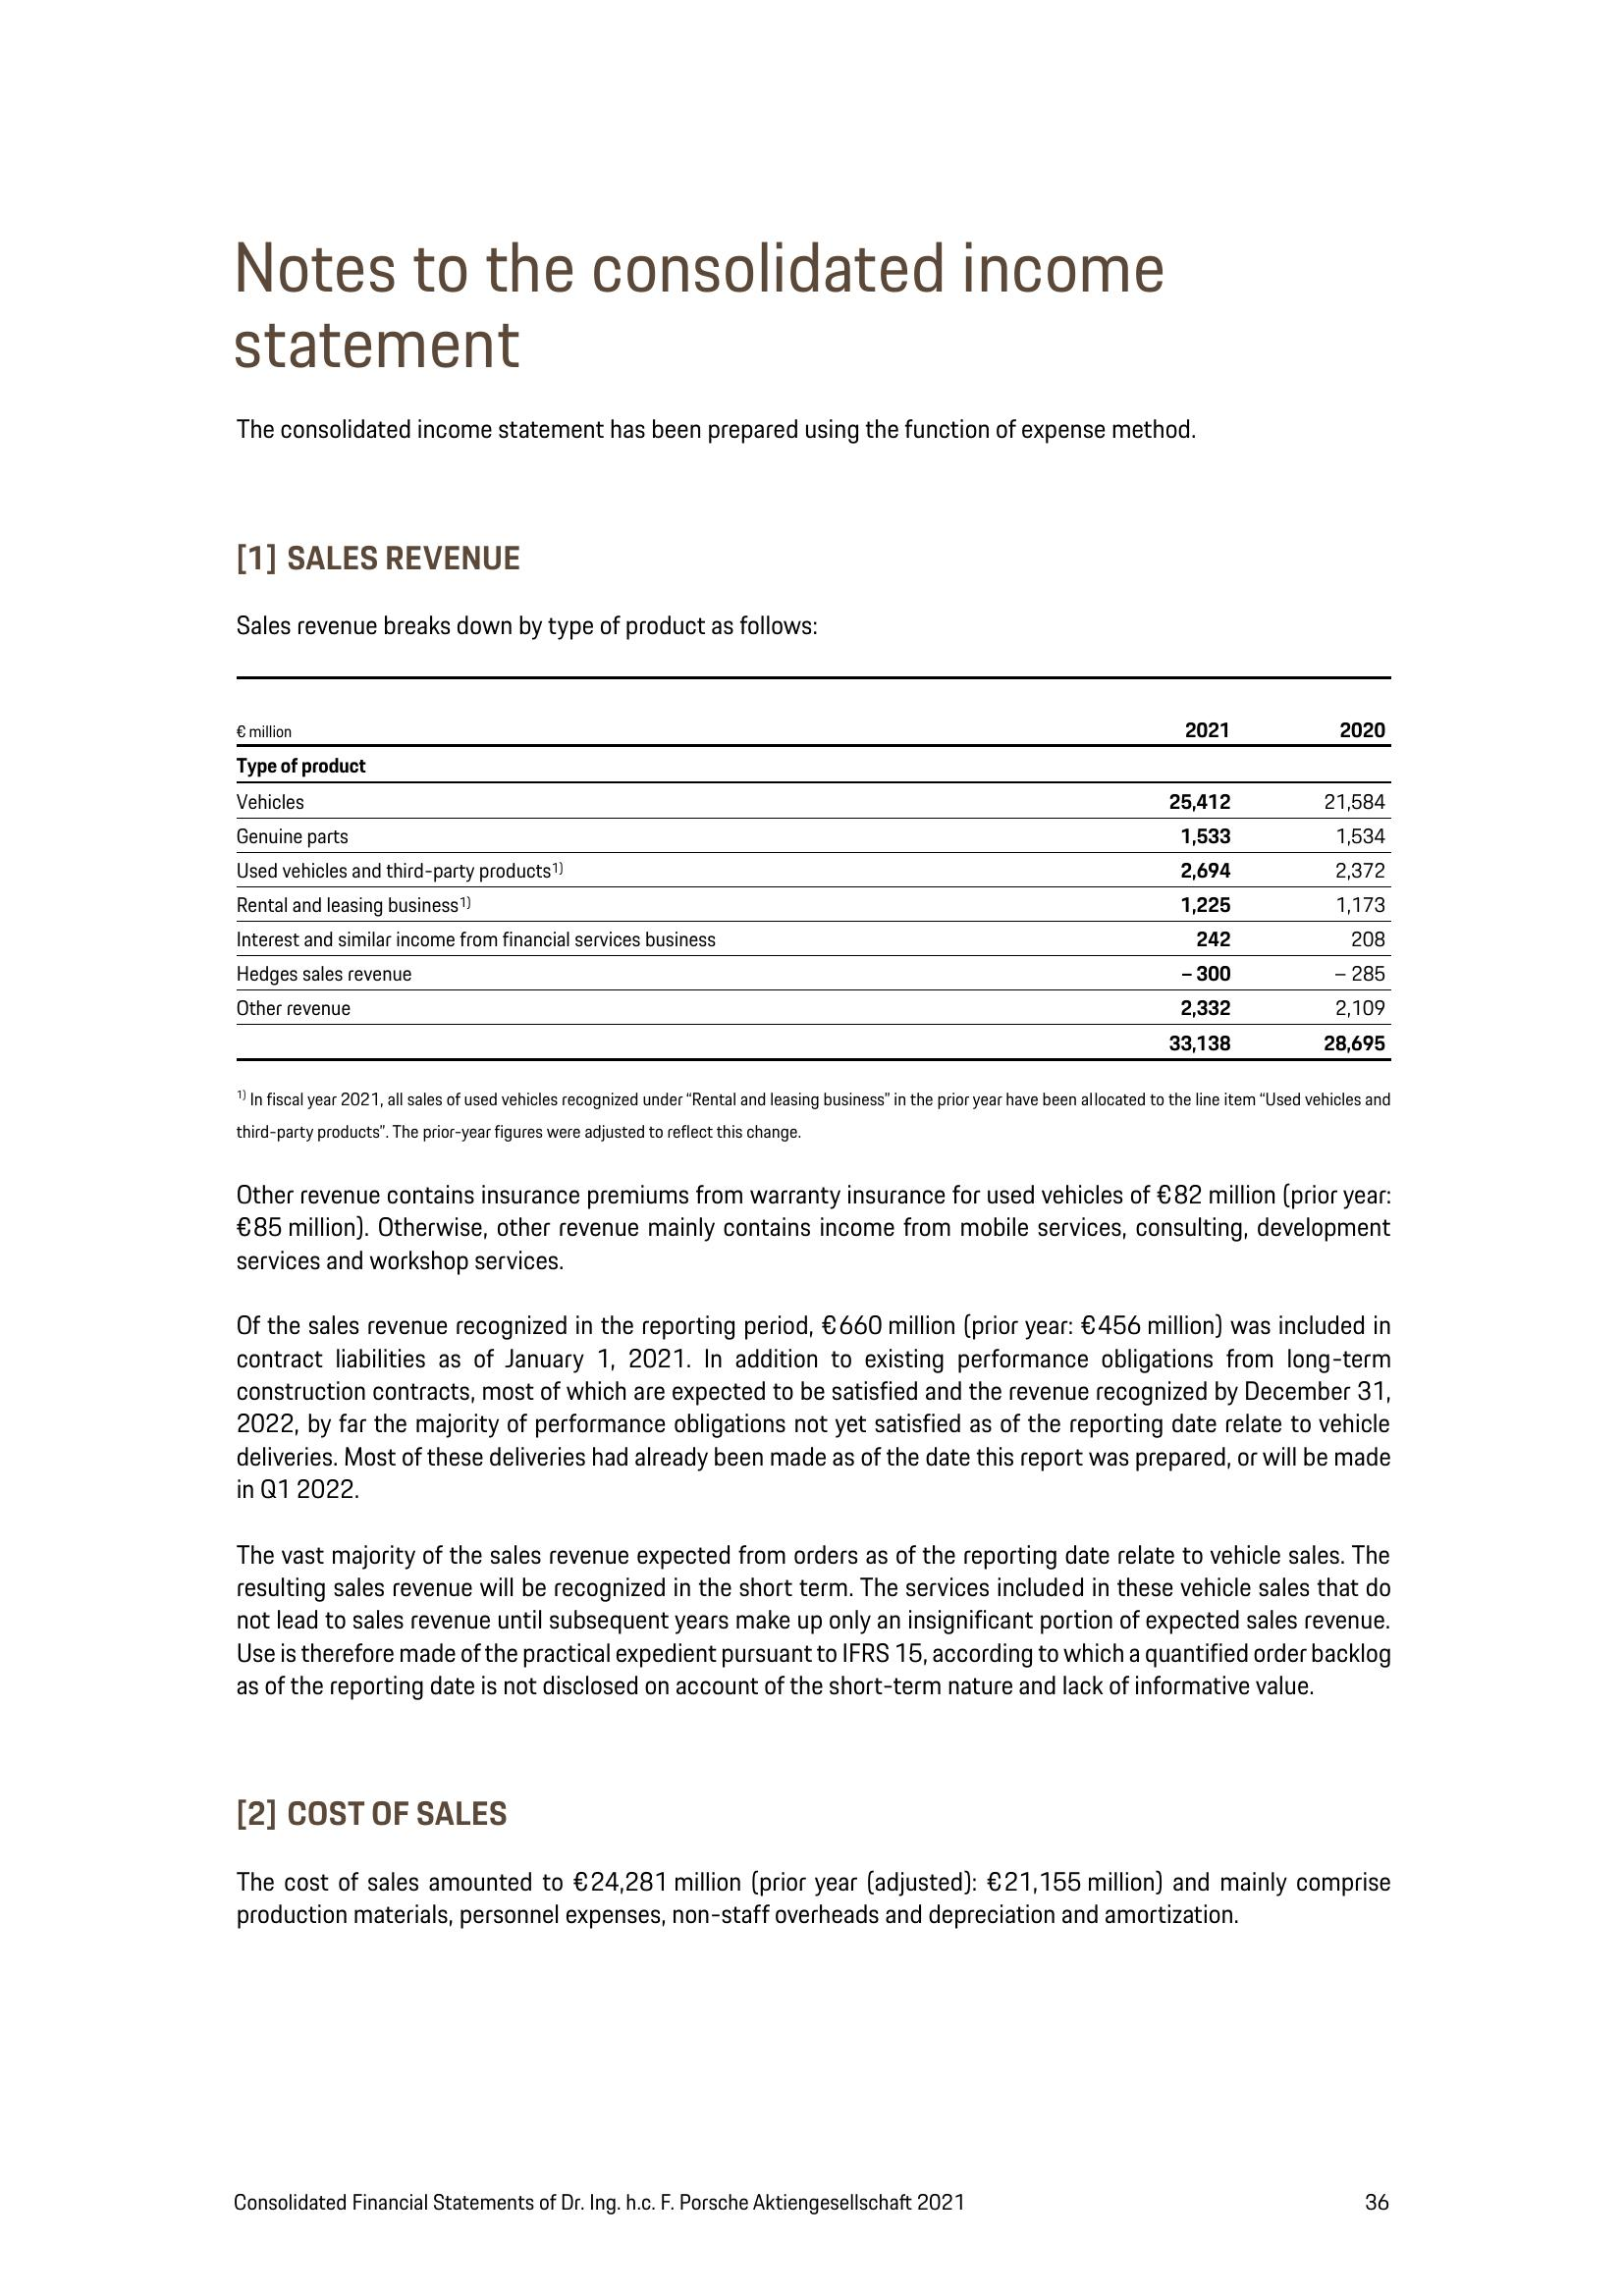Footer: (0, 2143, 1624, 2296)
Header: (0, 0, 1624, 188)
Table: (199, 675, 1452, 1061)
